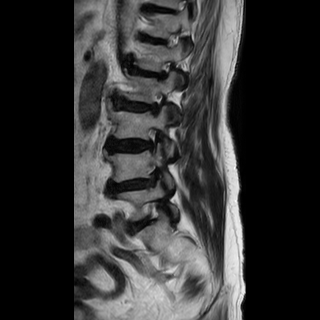LFS1: (141, 121, 164, 156)
